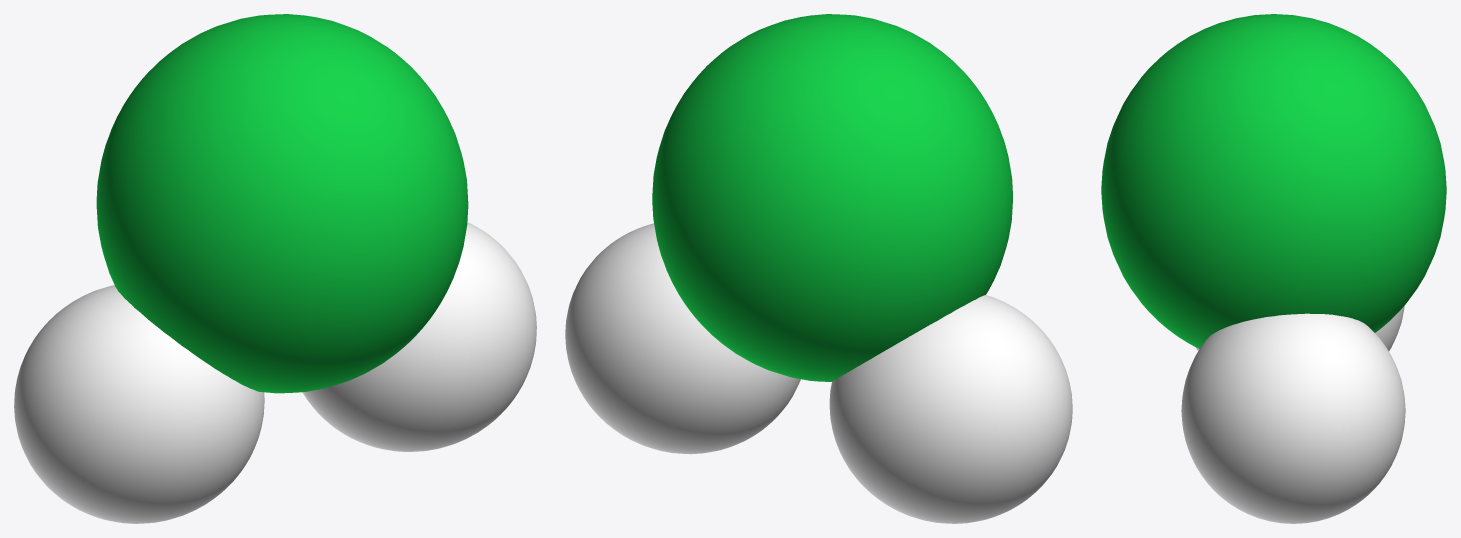
The model's file is water.glb.
3 views of the same model, side by side, from view 1: azimuth 30°, elevation 25°; view 2: azimuth 150°, elevation 25°; view 3: azimuth 270°, elevation 25° (orthographic). The views are drawn at different scales.
Bounding box in the file's own units: 0.2708 × 0.2403 × 0.1773.
2 materials, 2 textured.
